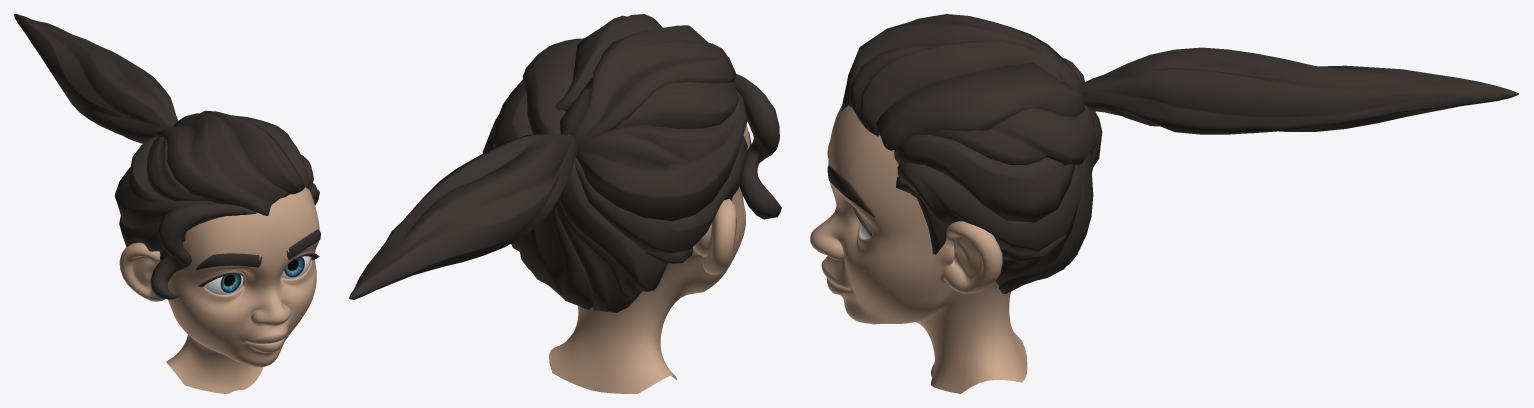
Rendered from head-study.glb.
3 renders of one model, left to right at view 1: azimuth 30°, elevation 25°; view 2: azimuth 150°, elevation 25°; view 3: azimuth 270°, elevation 25°, orthographic. The views are drawn at different scales.
Parts seen in each view (by area): view 1: study-head, study-hair_main, study-hair_ponytail, study-hair_strand, study-eyebrows, study-eyes; view 2: study-hair_main, study-hair_ponytail, study-head, study-hair_strand; view 3: study-hair_main, study-head, study-hair_ponytail, study-eyebrows.
Part boxes in pixels (bbox=[...]): study-head: bbox=[119, 187, 319, 393]; study-hair_main: bbox=[114, 110, 319, 260]; study-hair_ponytail: bbox=[14, 14, 178, 143]; study-hair_strand: bbox=[150, 203, 256, 299]; study-eyebrows: bbox=[195, 229, 320, 270]; study-eyes: bbox=[204, 256, 310, 294]; study-hair_main: bbox=[482, 14, 747, 312]; study-hair_ponytail: bbox=[349, 133, 578, 299]; study-head: bbox=[549, 124, 749, 393]; study-hair_strand: bbox=[733, 74, 781, 219]; study-hair_main: bbox=[841, 14, 1102, 293]; study-head: bbox=[810, 105, 1027, 393]; study-hair_ponytail: bbox=[1079, 47, 1518, 134]; study-eyebrows: bbox=[827, 143, 874, 217].
Size of the model in its own units: 0.2763 by 0.37 by 0.6814.
4 materials, 1 textured.
